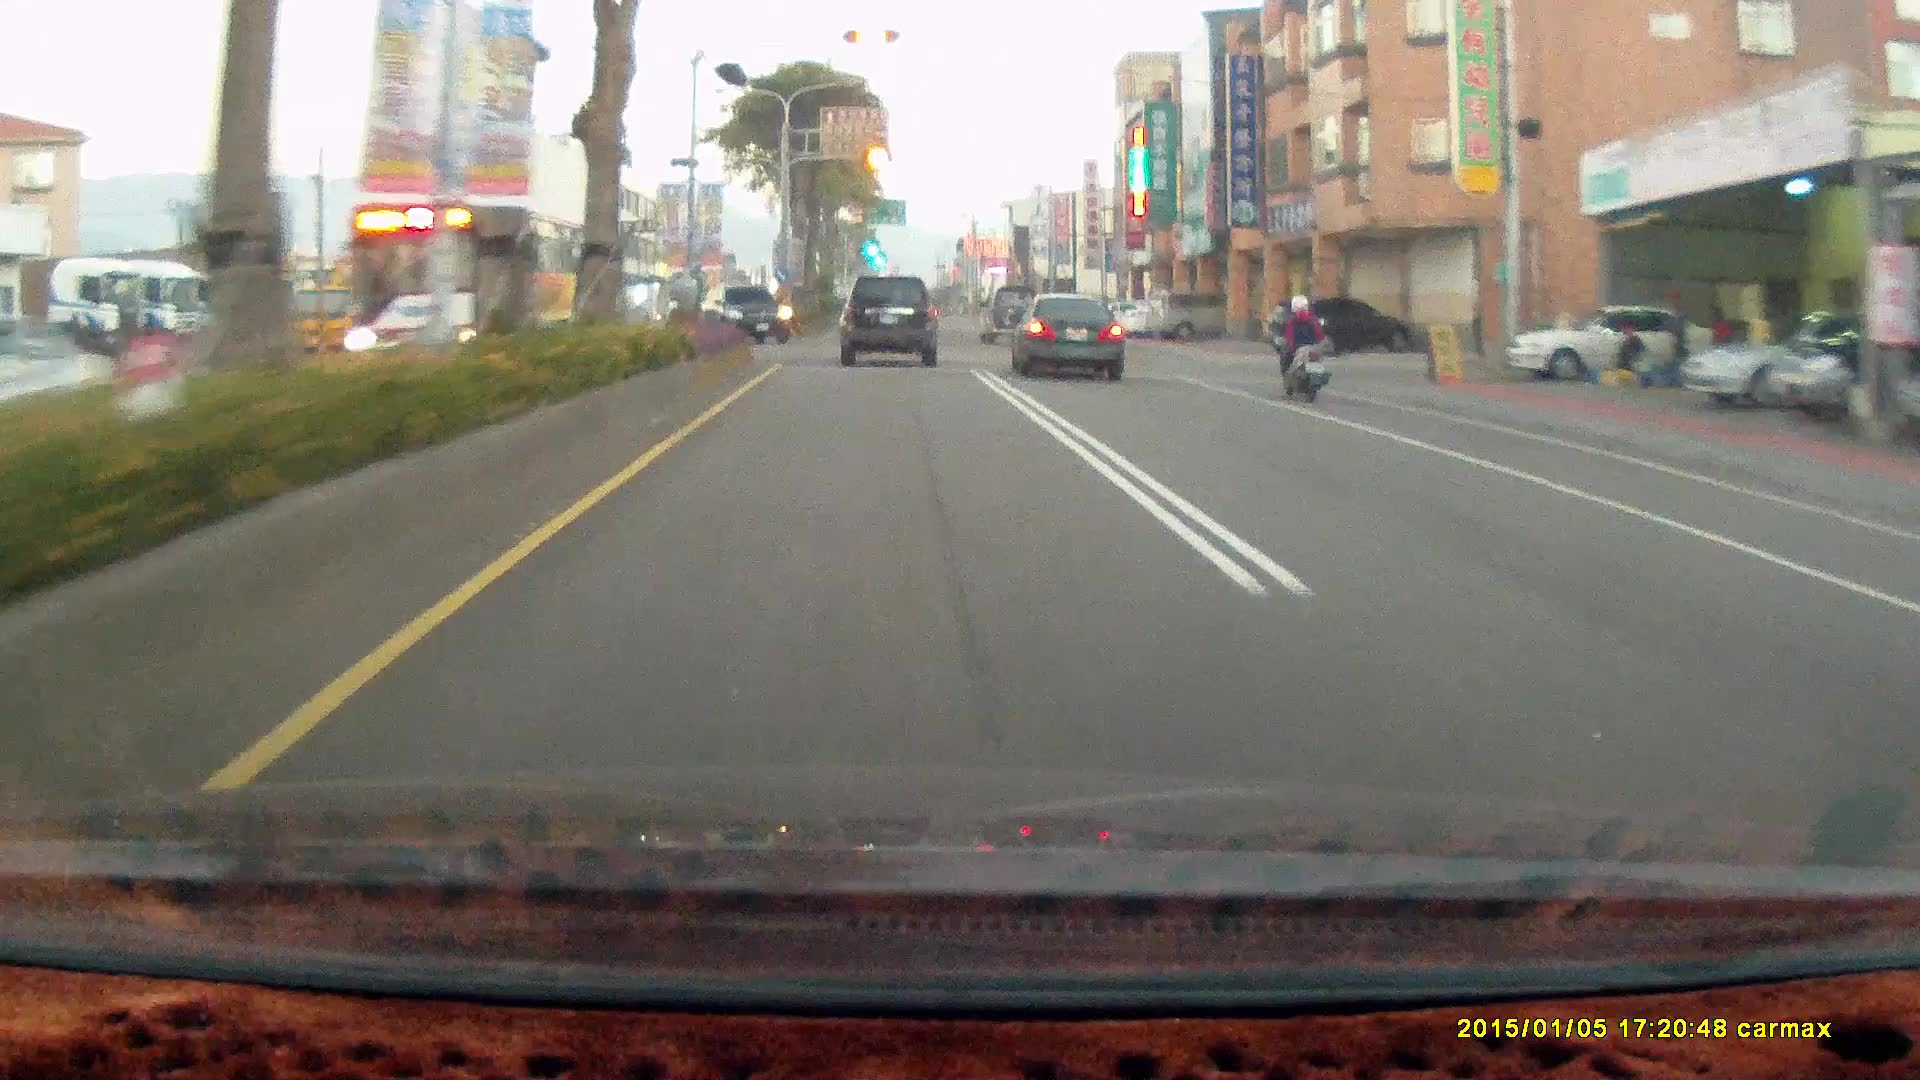pedestrian: (1666, 291, 1693, 388), (1707, 302, 1735, 380), (1617, 325, 1647, 388)
rider: (1264, 282, 1341, 413), (1271, 294, 1329, 402)
vehicle: (346, 202, 633, 373), (338, 199, 625, 369), (1678, 313, 1909, 414), (1754, 302, 1920, 429), (1767, 303, 1919, 427), (1688, 307, 1875, 408), (1502, 303, 1720, 381), (0, 329, 118, 456), (1526, 302, 1723, 377), (1013, 297, 1132, 392), (1002, 292, 1122, 380), (839, 281, 944, 373), (1265, 299, 1415, 361), (838, 276, 936, 368), (1265, 299, 1414, 360), (710, 284, 793, 345), (708, 283, 792, 344), (1147, 292, 1246, 341), (1149, 292, 1230, 345), (976, 285, 1041, 345)
